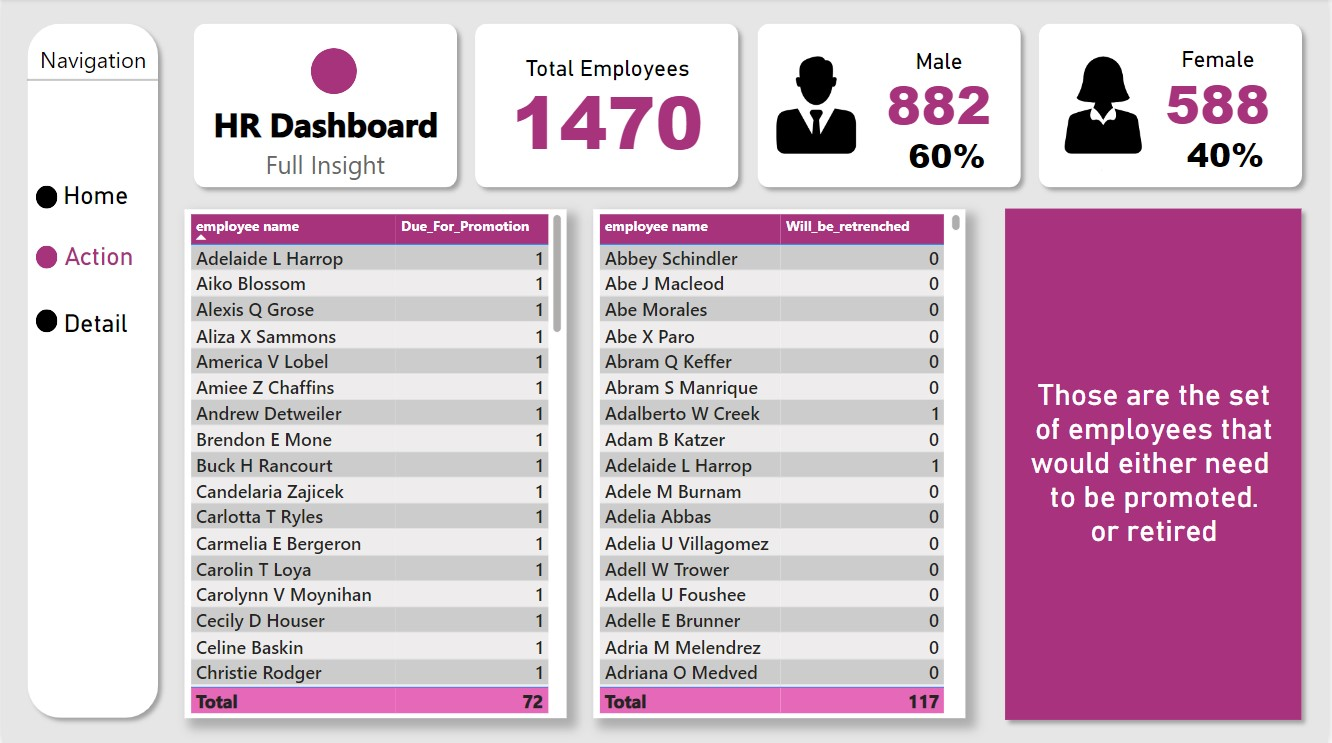

The dashboard page shown, as its layout file describes it:
{"tool":"powerbi","page":{"name":"Action","canvas":[1280,720],"ordinal":1},"visuals":[{"type":"shape","box":[16,16,144,688],"z":0},{"type":"shape","box":[992,16,272,176],"z":1000},{"type":"shape","box":[720,16,272,176],"z":2000},{"type":"shape","box":[448,16,272,176],"z":3000},{"type":"shape","box":[176,16,272,176],"z":4000},{"type":"textbox","box":[191.8,139.9,240.1,48.3],"z":5000},{"type":"card","title":"Total Employees","fields":{"Values":["All_Measures.Total_Emp"]},"box":[464.5,55.5,240.1,96.5],"z":6000},{"type":"card","title":"Male","fields":{"Values":["All_Measures.Male"]},"box":[832,48,144,80],"z":7000},{"type":"card","title":"Male","fields":{"Values":["All_Measures.% Male"]},"box":[848,96,128,112],"z":8000},{"type":"card","title":"Female","fields":{"Values":["All_Measures.Female"]},"box":[1101.7,46.9,144,80],"z":9000},{"type":"image","box":[727.5,38.6,120.6,133.9],"z":10000},{"type":"image","box":[1001.3,38.6,126.7,133.9],"z":11000},{"type":"textbox","box":[199.1,95.3,240.1,59.1],"z":12000},{"type":"card","title":"Male","fields":{"Values":["All_Measures.% Female"]},"box":[1117.2,95.3,127.9,112.2],"z":13000},{"type":"tableEx","fields":{"Values":["HR Analytics Data.employee name","All_Measures.Due_For_Promotion"]},"box":[176.1,203.9,369.2,491],"z":14000},{"type":"tableEx","fields":{"Values":["HR Analytics Data.employee name","All_Measures.Will_be_retrenched"]},"box":[570.6,203.9,359.5,491],"z":15000},{"type":"shape","box":[298,48.3,44.6,44.6],"z":16000},{"type":"actionButton","title":"Home","box":[29.2,176.1,123.1,30.2],"z":17000},{"type":"actionButton","title":"Action","box":[27.7,235.5,131.5,25.3],"z":18000},{"type":"actionButton","title":"Detail","box":[29.2,300.4,123.1,22.9],"z":19000},{"type":"shape","box":[32.4,180.4,21.1,22.4],"z":20000},{"type":"shape","box":[32.4,238.4,21.1,22.4],"z":21000},{"type":"shape","box":[32.4,300.4,21.1,22.4],"z":22000},{"type":"shape","box":[24.1,71.4,126.7,15.7],"z":23000},{"type":"textbox","box":[22.9,39.8,130.3,39.8],"z":24000},{"type":"shape","box":[959.1,194.2,304,511.5],"z":24001},{"type":"textbox","box":[974.8,360.7,273.9,178.6],"z":24002}]}

Visuals, with their boxes in screenshot pixels (x1, y1, x2, y2), scaled from the page's 1280x720 canvas onto the 1332x743 screenshot:
shape: l=17, t=17, r=166, b=726
shape: l=1032, t=17, r=1315, b=198
shape: l=749, t=17, r=1032, b=198
shape: l=466, t=17, r=749, b=198
shape: l=183, t=17, r=466, b=198
textbox: l=200, t=144, r=449, b=194
"Total Employees" card: l=483, t=57, r=733, b=157
"Male" card: l=866, t=50, r=1016, b=132
"Male" card: l=882, t=99, r=1016, b=215
"Female" card: l=1146, t=48, r=1296, b=131
image: l=757, t=40, r=883, b=178
image: l=1042, t=40, r=1174, b=178
textbox: l=207, t=98, r=457, b=159
"Male" card: l=1163, t=98, r=1296, b=214
tableEx - HR Analytics Data.employee name x All_Measures.Due_For_Promotion: l=183, t=210, r=567, b=717
tableEx - HR Analytics Data.employee name x All_Measures.Will_be_retrenched: l=594, t=210, r=968, b=717
shape: l=310, t=50, r=357, b=96
"Home" actionButton: l=30, t=182, r=158, b=213
"Action" actionButton: l=29, t=243, r=166, b=269
"Detail" actionButton: l=30, t=310, r=158, b=334
shape: l=34, t=186, r=56, b=209
shape: l=34, t=246, r=56, b=269
shape: l=34, t=310, r=56, b=333
shape: l=25, t=74, r=157, b=90
textbox: l=24, t=41, r=159, b=82
shape: l=998, t=200, r=1314, b=728
textbox: l=1014, t=372, r=1299, b=557
